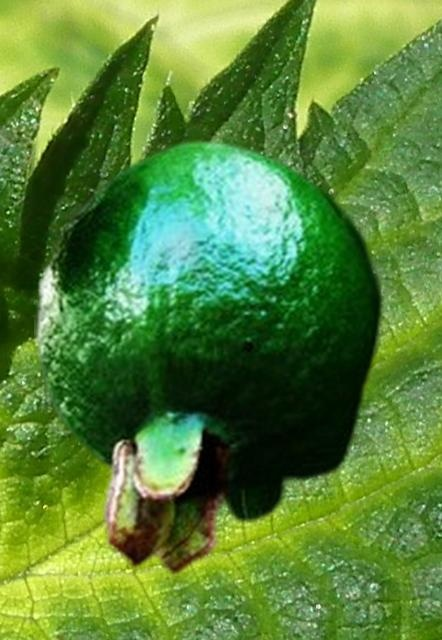guava: (34, 137, 385, 575)
